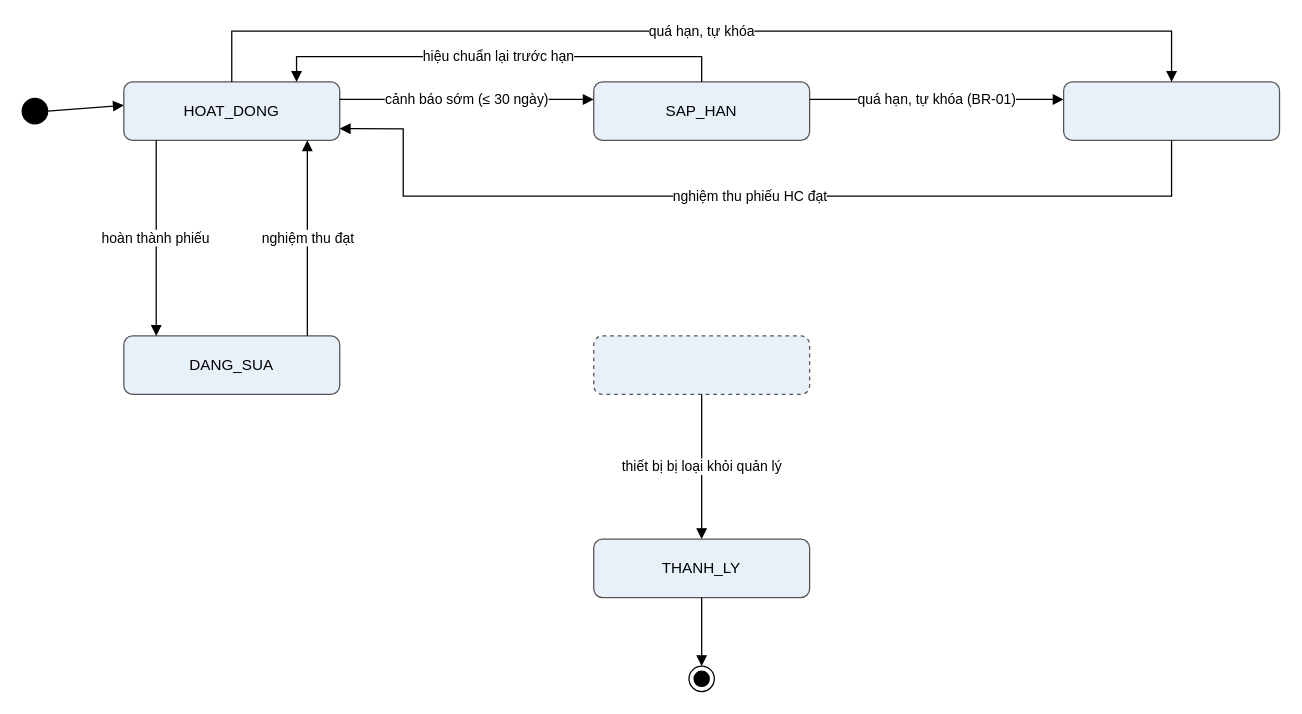
This 1302x714 diagram has some shape labels left out. The shapes that lost their labels are listed below. From the top down, each one's centre as x and y in pixels, then its label:
pixel 1171 110: CHO_HIEU_CHUAN
pixel 701 364: Mọi trạng thái khác (trừ THANH_LY)
